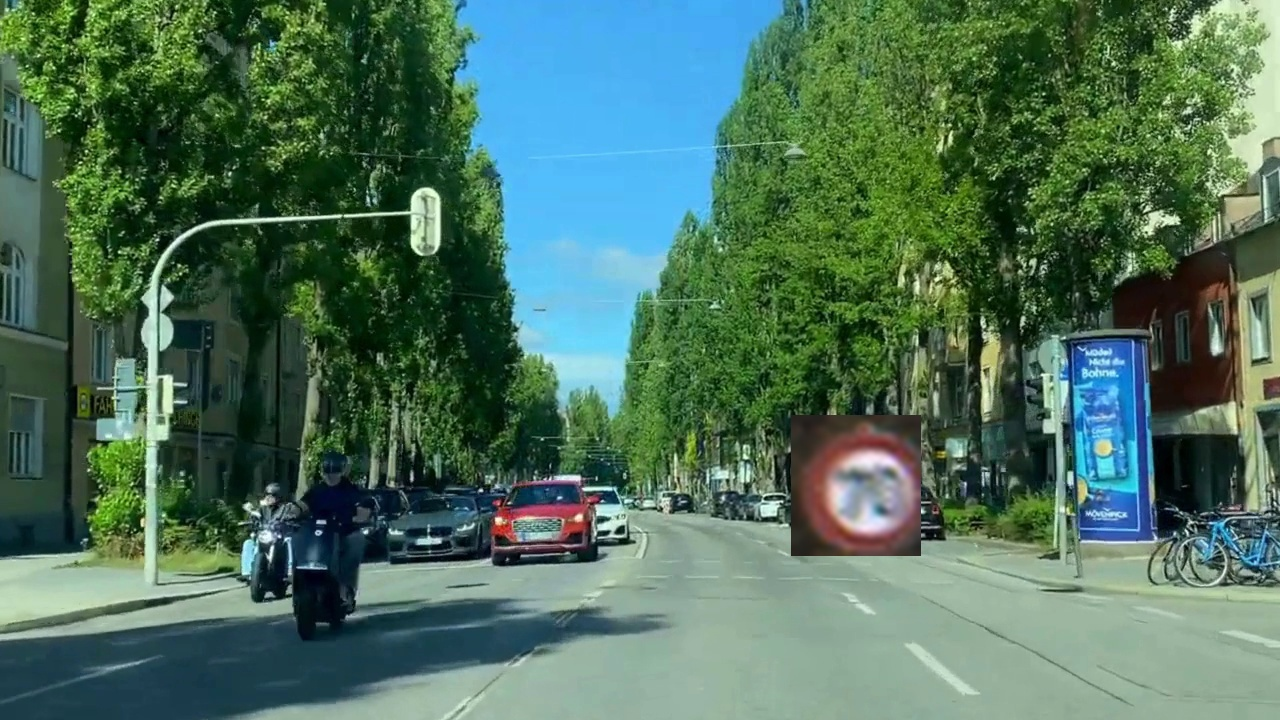Speed 70: (791, 415, 921, 556)
